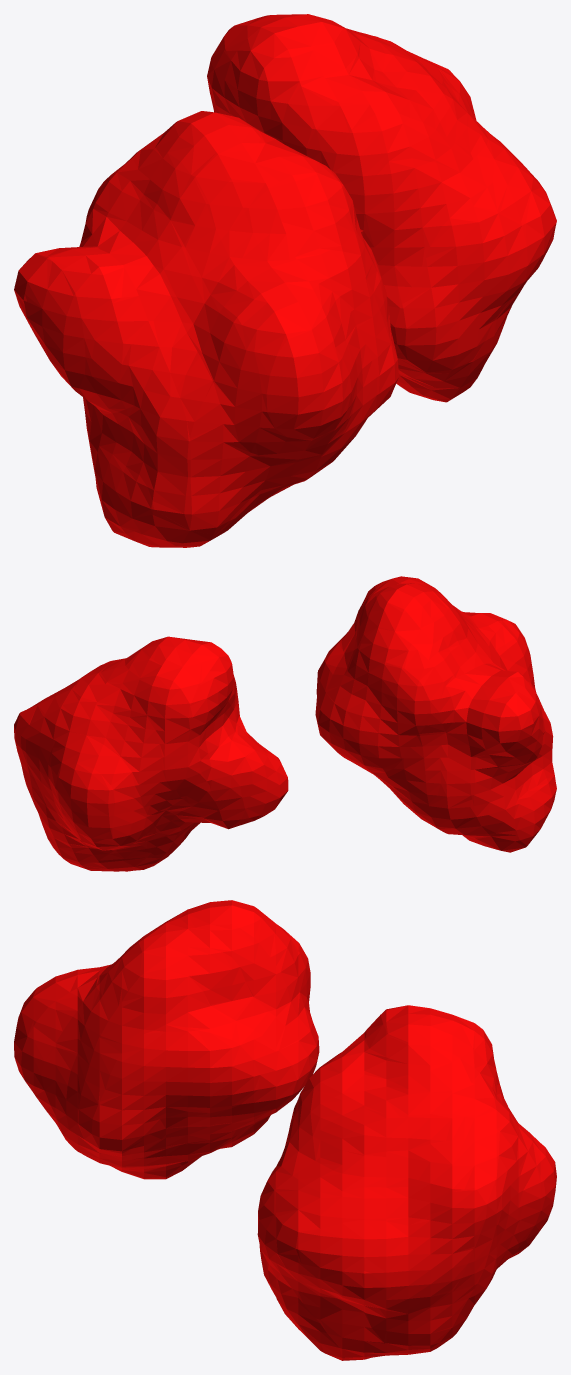
The model's file is chbB_coarse.dae.
3 renders of one model, top to bottom at view 1: azimuth 30°, elevation 25°; view 2: azimuth 150°, elevation 25°; view 3: azimuth 270°, elevation 25°, orthographic. The views are drawn at different scales.
Visible parts, largest first — view 1: chbB; view 2: chbB; view 3: chbB.
Boxes of the visible parts, bbox=[...] form: chbB: bbox=[14, 14, 556, 547]; chbB: bbox=[14, 576, 556, 871]; chbB: bbox=[14, 900, 556, 1360].
Size of the model in its own units: 68.7 by 44.72 by 65.7.
